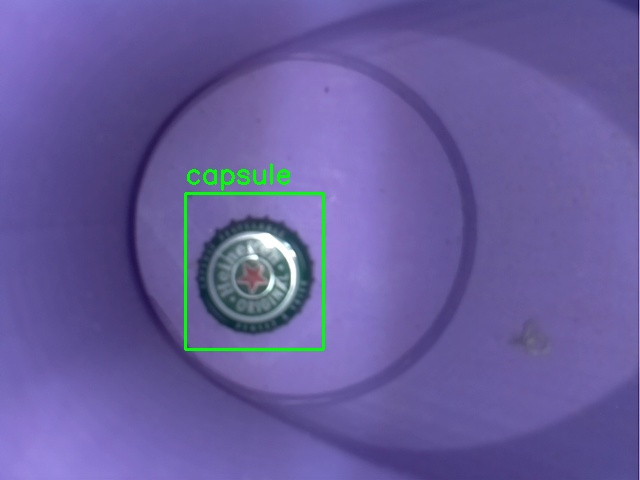capsule: (185, 193, 323, 349)
